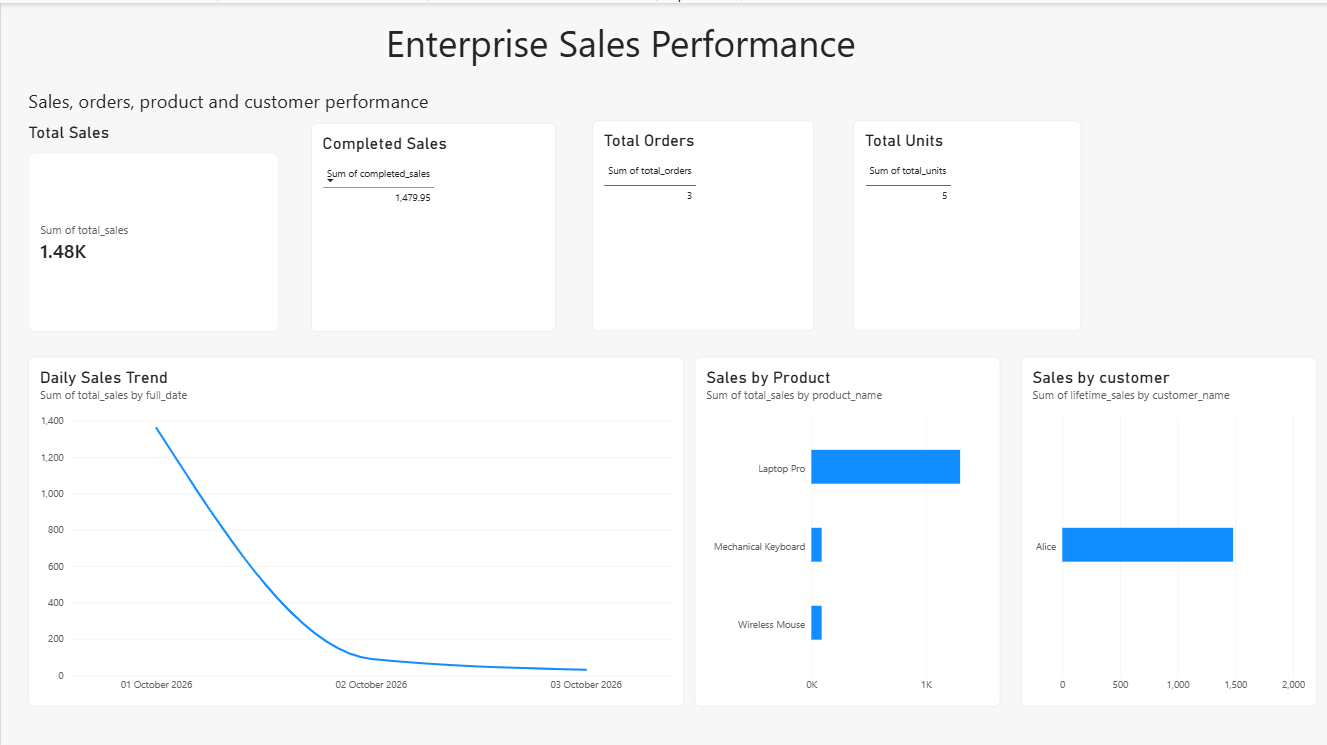

What the dashboard file says about the page in this screenshot:
{"tool":"powerbi","page":{"name":"Executive Sales Overview","canvas":[1920,1080],"ordinal":0},"visuals":[{"type":"textbox","box":[557.4,19.9,932,83.2],"z":0},{"type":"textbox","box":[39.8,123.1,964.5,419.8],"z":1000},{"type":"cardVisual","title":"Total Sales","fields":{"Data":["Sum(Daily Sales.total_sales)"]},"box":[39.1,172.9,362.3,302.6],"z":2000},{"type":"tableEx","title":"Completed Sales","fields":{"Values":["Sum(Product Sales.completed_sales)"]},"box":[448.7,172.9,354,302.6],"z":3000},{"type":"tableEx","title":"Total Orders","fields":{"Values":["Sum(Daily Sales.total_orders)"]},"box":[856.3,170.8,321.1,304.6],"z":4000},{"type":"tableEx","title":"Total Units ","fields":{"Values":["Sum(Daily Sales.total_units)"]},"box":[1235,170.8,329.3,304.6],"z":5000},{"type":"lineChart","title":"Daily Sales Trend","fields":{"Category":["Daily Sales.full_date"],"Y":["Sum(Daily Sales.total_sales)"]},"box":[39.1,512.5,948.9,506.3],"z":6000},{"type":"clusteredBarChart","title":"Sales by Product","fields":{"Category":["Product Sales.product_name"],"Y":["Sum(Product Sales.total_sales)"]},"box":[1004.5,512.5,442.5,506.3],"z":7000},{"type":"clusteredBarChart","title":"Sales by customer","fields":{"Category":["Customer Sales.customer_name"],"Y":["Sum(Customer Sales.lifetime_sales)"]},"box":[1475.8,512.5,428.1,506.3],"z":8000}]}

Visuals, with their boxes in screenshot pixels (x1, y1, x2, y2), scaled from the page's 1920x1080 canvas onto the 1327x745 screenshot:
textbox: bbox(385, 14, 1029, 71)
textbox: bbox(28, 85, 694, 375)
"Total Sales" cardVisual: bbox(27, 119, 277, 328)
"Completed Sales" tableEx: bbox(310, 119, 555, 328)
"Total Orders" tableEx: bbox(592, 118, 814, 328)
"Total Units " tableEx: bbox(854, 118, 1081, 328)
"Daily Sales Trend" lineChart: bbox(27, 354, 683, 703)
"Sales by Product" clusteredBarChart: bbox(694, 354, 1000, 703)
"Sales by customer" clusteredBarChart: bbox(1020, 354, 1316, 703)
